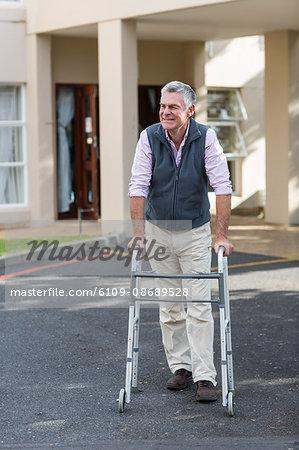walking_frame: (117, 81, 236, 415)
